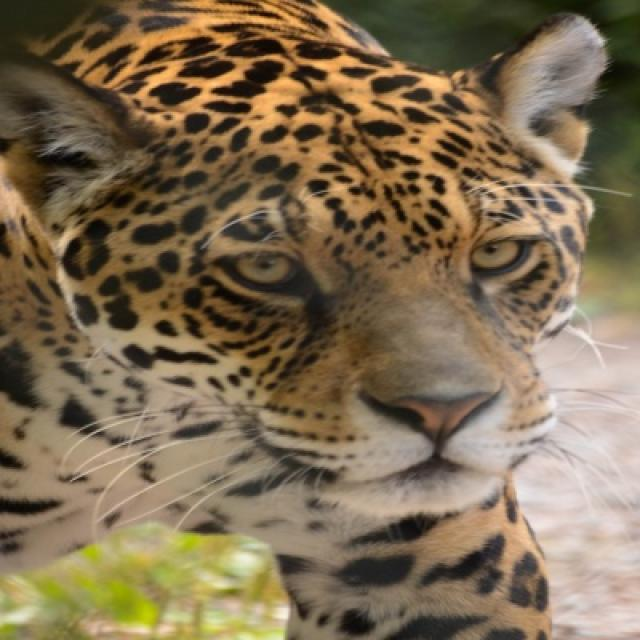Jaguar: (0, 0, 613, 638)
